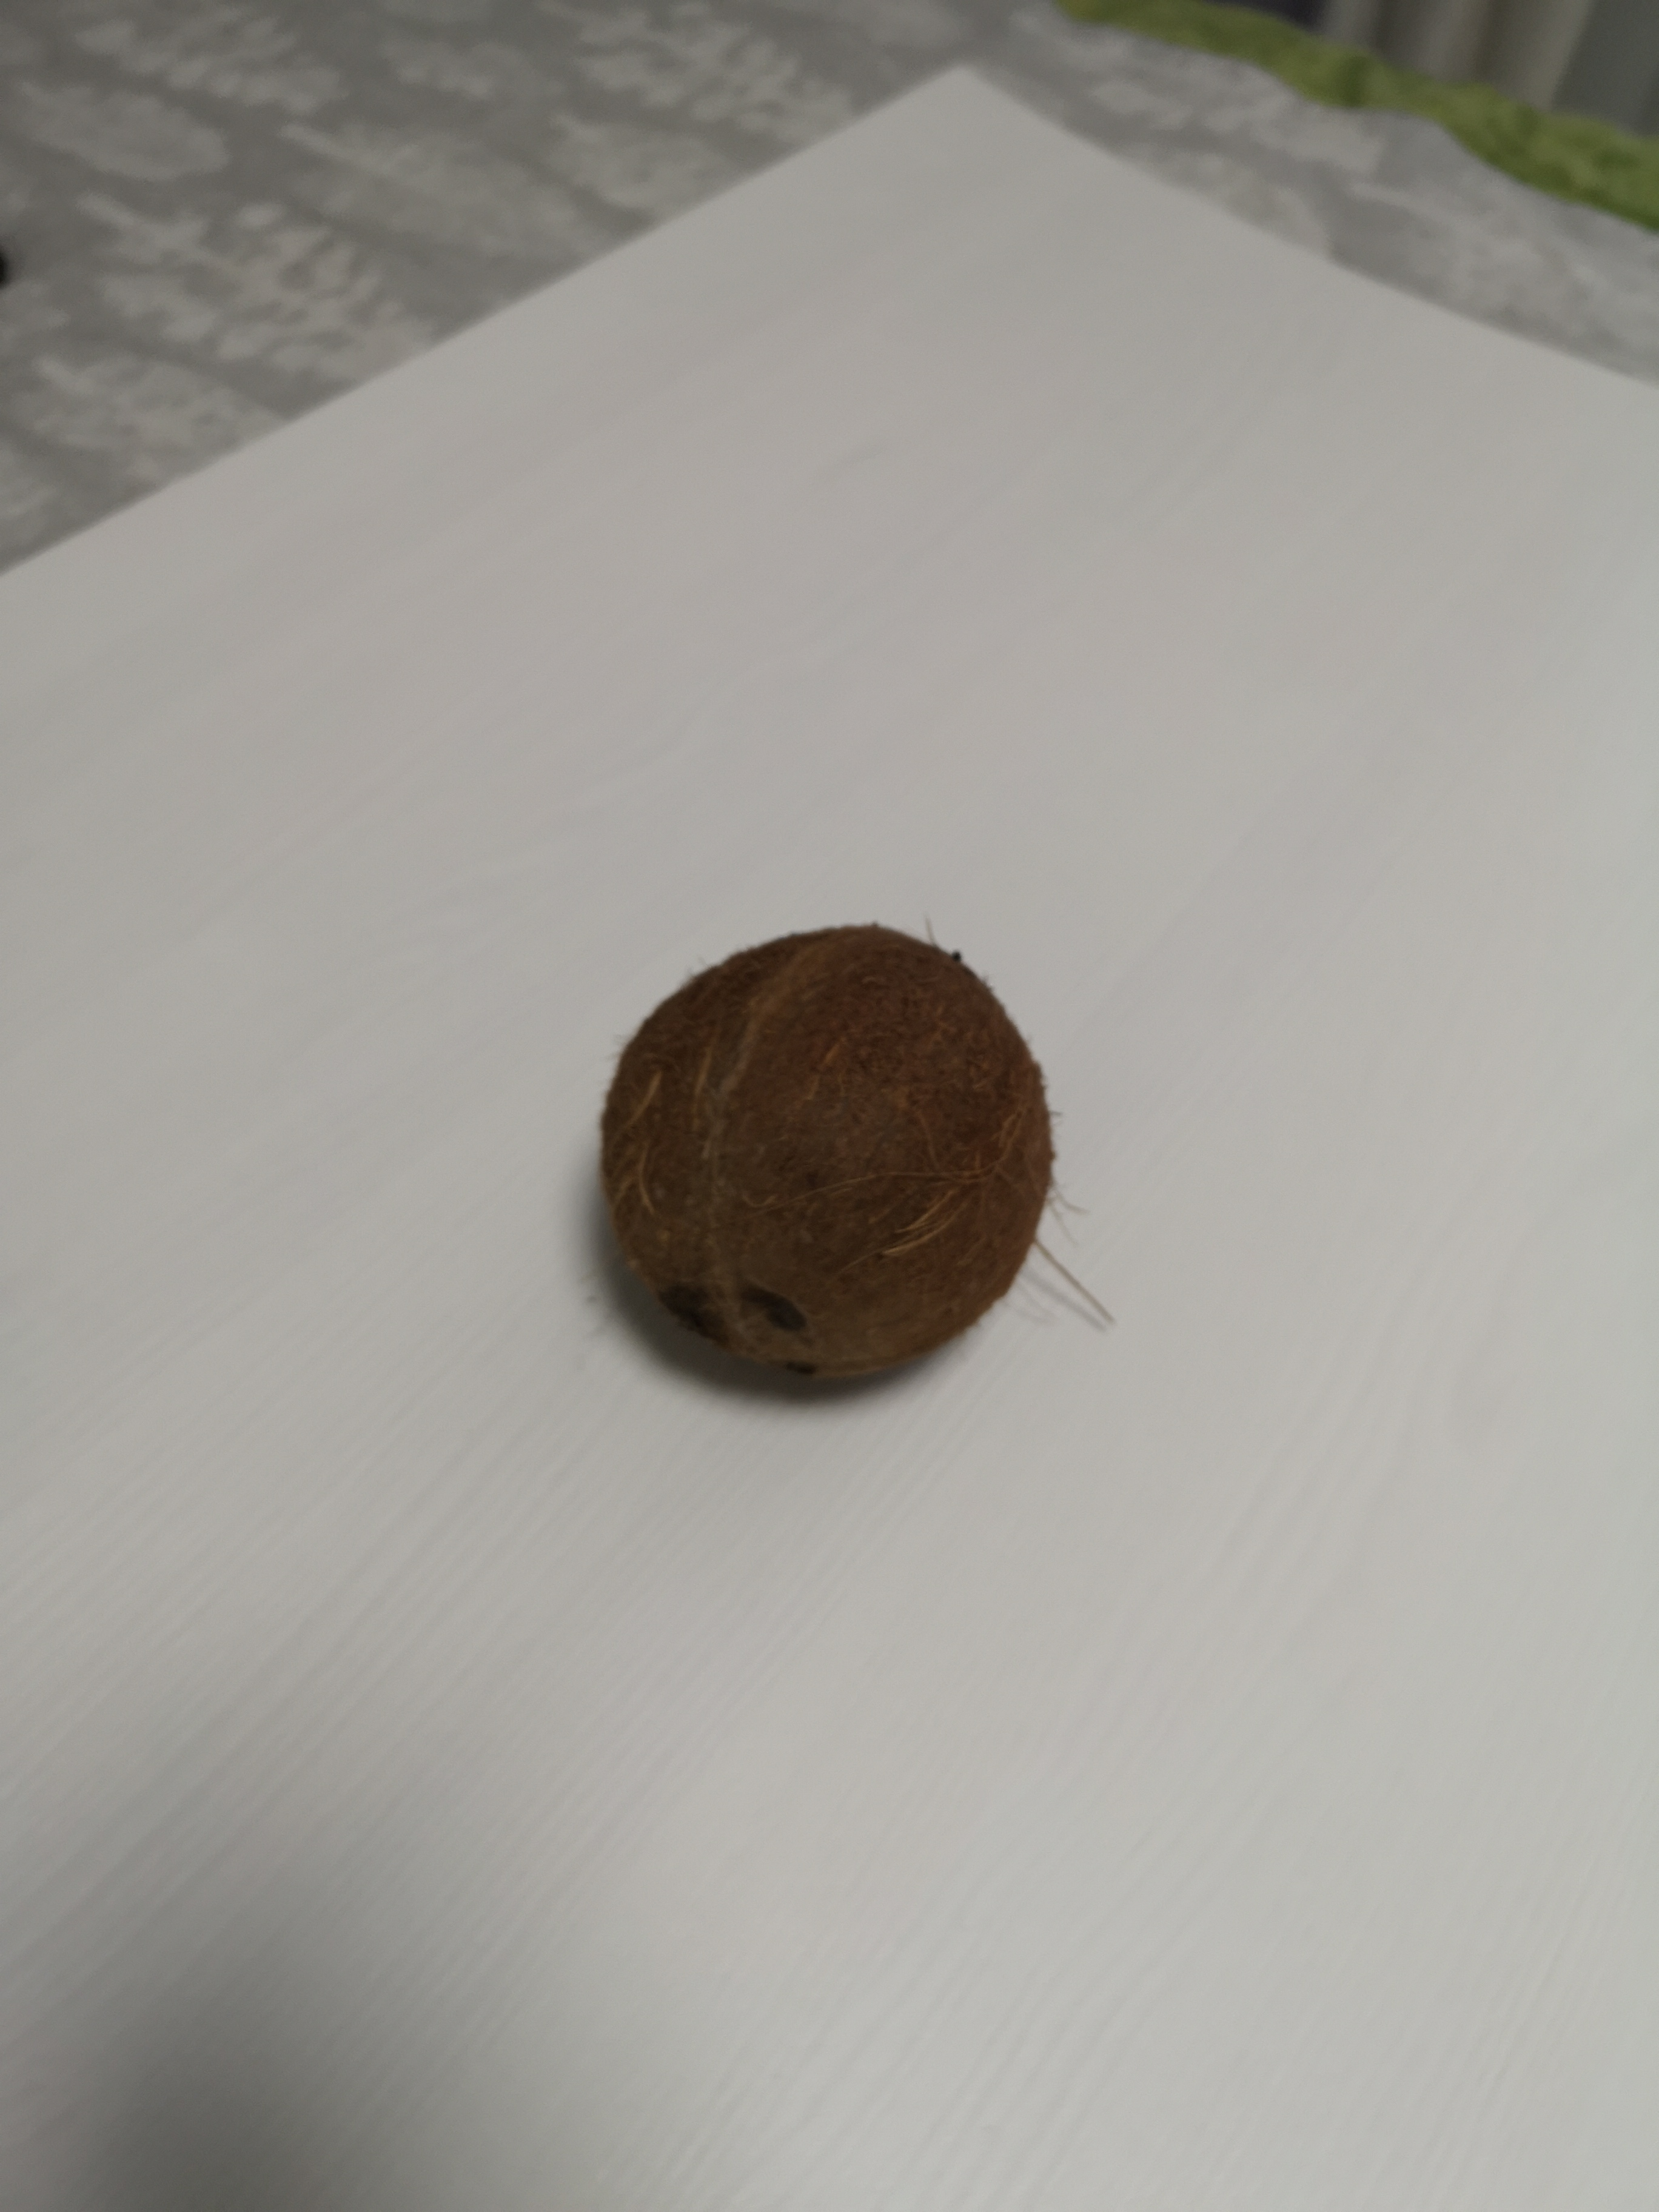coconut: (596, 913, 1061, 1395)
